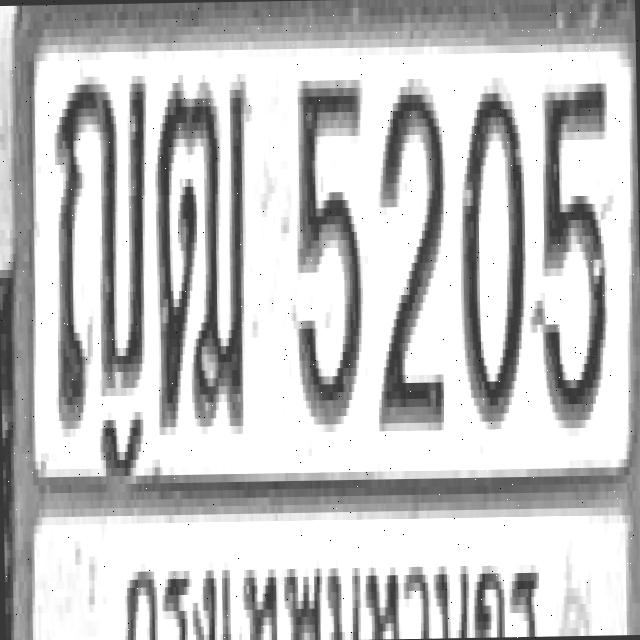0: (458, 84, 526, 422)
2: (373, 78, 447, 423)
22YorYing: (51, 71, 152, 425)
27ThorPhuThao: (152, 77, 253, 423)
5: (536, 75, 612, 428), (291, 72, 365, 424)
